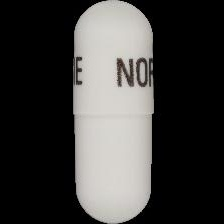54868-2481: (0, 0, 224, 224)
